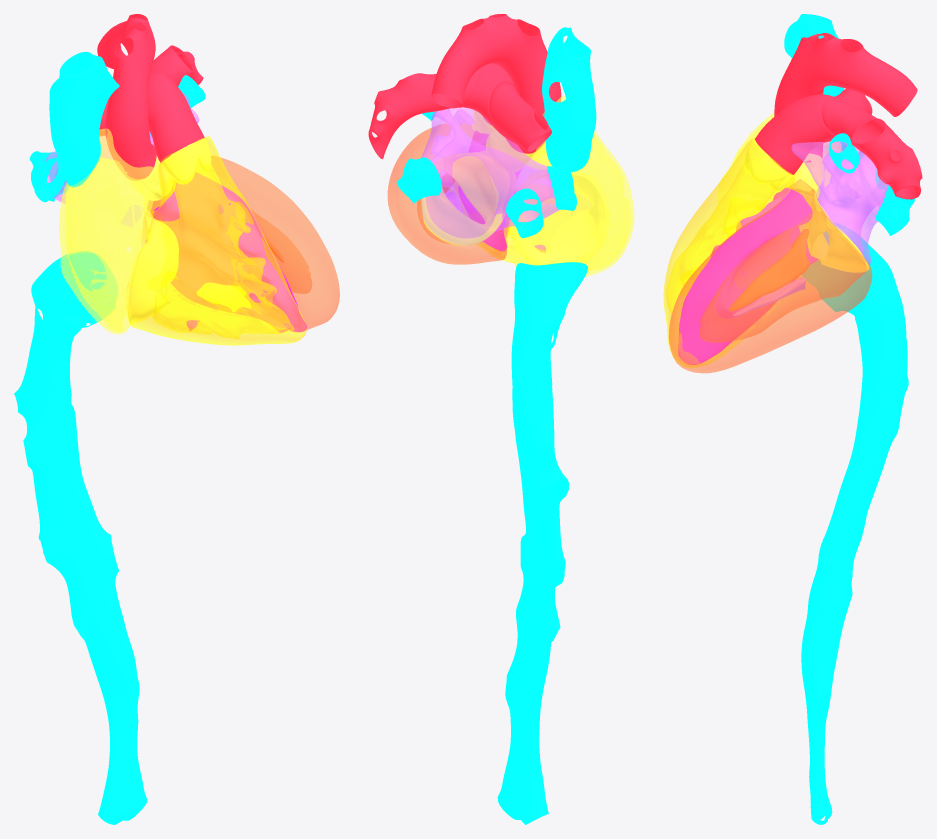
Rendered from herz-male.glb.
The picture shows the model from 3 angles, left to right: view 1: azimuth 30°, elevation 25°; view 2: azimuth 150°, elevation 25°; view 3: azimuth 270°, elevation 25°; orthographic projection.
Parts seen in each view (by area): view 1: 0:1:VH_M_heart_right_ventricle, 1:10:VH_M_inferior_vena_cava_b, 0:4:VH_M_right_cardiac_atrium, 0:2:VH_M_interventricular_septum, 0:0:VH_M_heart_left_ventricle, 1:11:VH_M_inferior_vena_cava_a, 1:9:VH_M_superior_vena_cava, 1:0:VH_M_aortic_arch, 0:9:VH_M_tricuspid_valve, 1:4:VH_M_pulmonary_trunk, 1:1:VH_M_ascending_aorta, 0:8:VH_M_pulmonary_valve (+6 smaller); view 2: 1:10:VH_M_inferior_vena_cava_b, 0:3:VH_M_left_cardiac_atrium, 0:4:VH_M_right_cardiac_atrium, 1:0:VH_M_aortic_arch, 1:11:VH_M_inferior_vena_cava_a, 1:9:VH_M_superior_vena_cava, 0:7:VH_M_mitral_valve, 0:0:VH_M_heart_left_ventricle, 0:9:VH_M_tricuspid_valve, 1:2:VH_M_pulmonary_artery_L, 1:3:VH_M_pulmonary_artery_R, 0:1:VH_M_heart_right_ventricle (+7 smaller); view 3: 0:0:VH_M_heart_left_ventricle, 1:10:VH_M_inferior_vena_cava_b, 0:2:VH_M_interventricular_septum, 0:1:VH_M_heart_right_ventricle, 1:0:VH_M_aortic_arch, 1:11:VH_M_inferior_vena_cava_a, 0:3:VH_M_left_cardiac_atrium, 1:2:VH_M_pulmonary_artery_L, 1:4:VH_M_pulmonary_trunk, 0:7:VH_M_mitral_valve, 0:12:VH_M_papillary_muscle_of_heart_anterolateral, 1:9:VH_M_superior_vena_cava (+7 smaller).
Part boxes in pixels (<box>): 0:1:VH_M_heart_right_ventricle: <box>128,136,306,345</box>; 1:10:VH_M_inferior_vena_cava_b: <box>14,346,147,824</box>; 0:4:VH_M_right_cardiac_atrium: <box>59,128,158,334</box>; 0:2:VH_M_interventricular_septum: <box>145,172,306,332</box>; 0:0:VH_M_heart_left_ventricle: <box>147,156,339,331</box>; 1:11:VH_M_inferior_vena_cava_a: <box>31,251,117,362</box>; 1:9:VH_M_superior_vena_cava: <box>49,52,119,187</box>; 1:0:VH_M_aortic_arch: <box>97,14,155,117</box>; 0:9:VH_M_tricuspid_valve: <box>125,217,178,325</box>; 1:4:VH_M_pulmonary_trunk: <box>148,72,204,162</box>; 1:1:VH_M_ascending_aorta: <box>105,105,156,180</box>; 0:8:VH_M_pulmonary_valve: <box>161,138,211,184</box>; 1:10:VH_M_inferior_vena_cava_b: <box>497,386,569,824</box>; 0:3:VH_M_left_cardiac_atrium: <box>421,107,559,245</box>; 0:4:VH_M_right_cardiac_atrium: <box>503,95,634,276</box>; 1:0:VH_M_aortic_arch: <box>431,14,558,108</box>; 1:11:VH_M_inferior_vena_cava_a: <box>511,262,587,395</box>; 1:9:VH_M_superior_vena_cava: <box>542,27,596,172</box>; 0:7:VH_M_mitral_valve: <box>421,151,515,245</box>; 0:0:VH_M_heart_left_ventricle: <box>387,123,508,264</box>; 0:9:VH_M_tricuspid_valve: <box>510,169,609,264</box>; 1:2:VH_M_pulmonary_artery_L: <box>368,69,479,159</box>; 1:3:VH_M_pulmonary_artery_R: <box>489,81,551,152</box>; 0:1:VH_M_heart_right_ventricle: <box>472,110,591,263</box>; 0:0:VH_M_heart_left_ventricle: <box>668,179,872,373</box>; 1:10:VH_M_inferior_vena_cava_b: <box>801,338,908,824</box>; 0:2:VH_M_interventricular_septum: <box>678,187,818,364</box>; 0:1:VH_M_heart_right_ventricle: <box>663,138,794,367</box>; 1:0:VH_M_aortic_arch: <box>779,33,917,116</box>; 1:11:VH_M_inferior_vena_cava_a: <box>802,223,906,350</box>; 0:3:VH_M_left_cardiac_atrium: <box>791,141,888,265</box>; 1:2:VH_M_pulmonary_artery_L: <box>821,97,922,199</box>; 1:4:VH_M_pulmonary_trunk: <box>755,94,842,174</box>; 0:7:VH_M_mitral_valve: <box>804,187,869,272</box>; 0:12:VH_M_papillary_muscle_of_heart_anterolateral: <box>729,229,809,311</box>; 1:9:VH_M_superior_vena_cava: <box>784,14,844,141</box>.
Bounding box in the file's own units: 0.1244 × 0.4007 × 0.1179.
